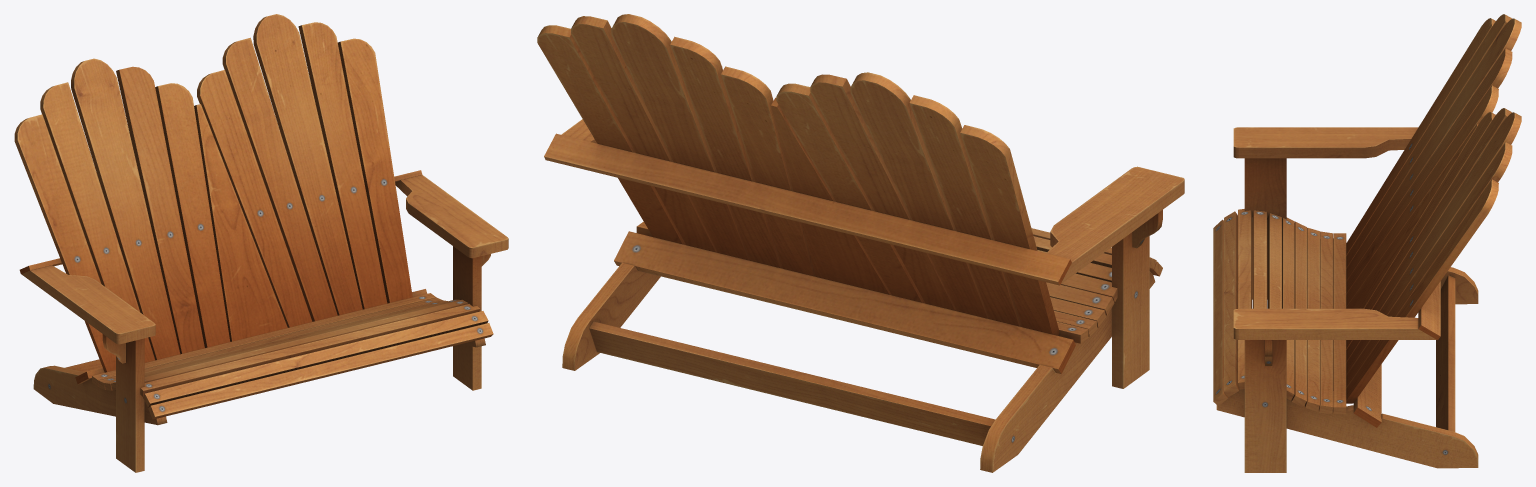
Rendered from loveseat_adirondack.fbx.
3 views of the same model, side by side, from view 1: azimuth 30°, elevation 25°; view 2: azimuth 150°, elevation 25°; view 3: azimuth 270°, elevation 25° (orthographic). The views are drawn at different scales.
Parts seen in each view (by area): view 1: loveseat_adirondack; view 2: loveseat_adirondack; view 3: loveseat_adirondack.
Part boxes in pixels (x1,y1,x2,y2): loveseat_adirondack: [14, 14, 508, 472]; loveseat_adirondack: [537, 14, 1184, 472]; loveseat_adirondack: [1213, 14, 1521, 472].
Bounding box in the file's own units: 5.43 × 3.96 × 3.5.
